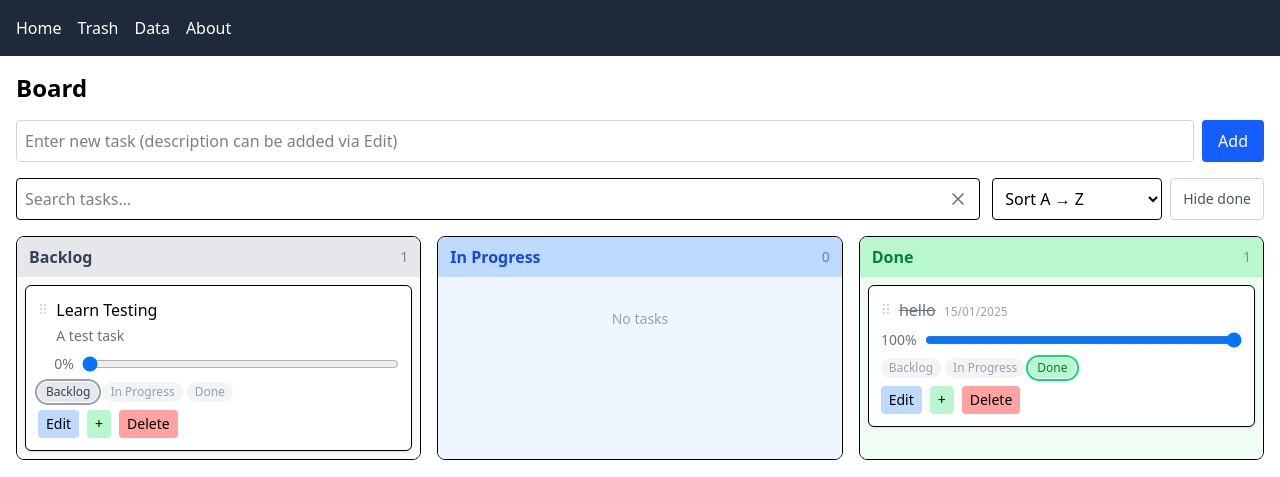
Scenario: removes a task when delete is clicked
This screenshot has width=1280, height=477.
What coordinates should you click on to do the following:
click the button "Delete" below "A test task"
I would click on:
 (148, 424)
Its box is [119,410,178,438].
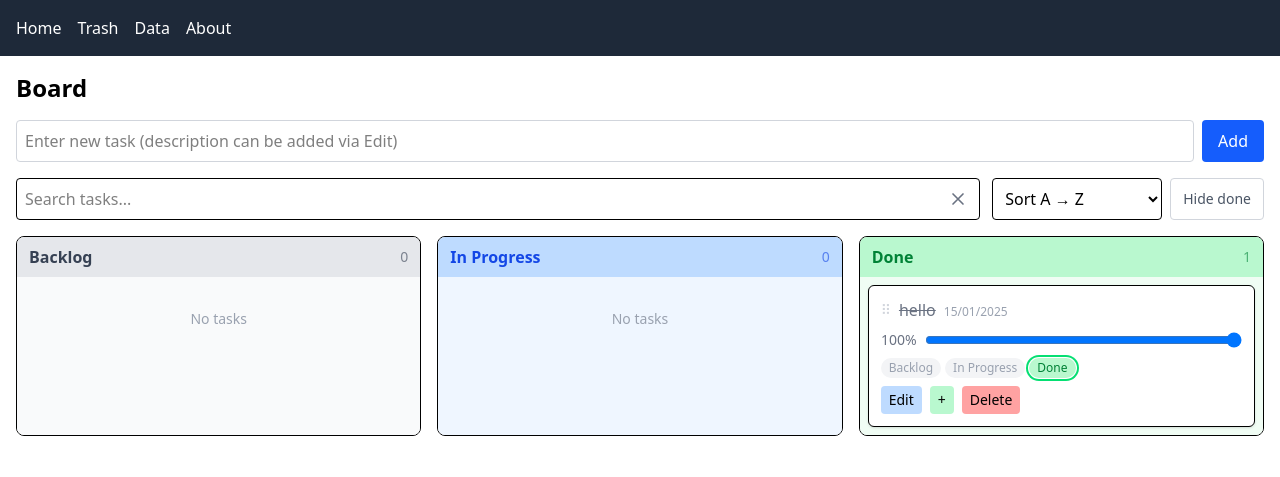
Check: the text "Learn Testing" is gone
